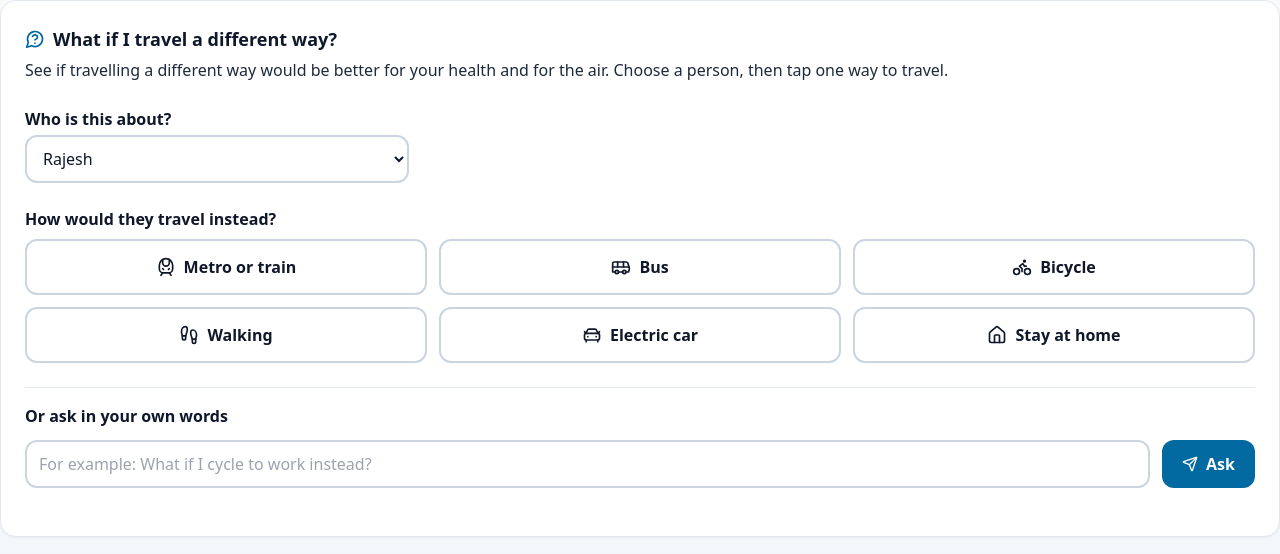
Test case: WhatIfPanel › says so, and shows no travel buttons, for someone who does not travel
Select "Meena" in the dropdown labelled "Who is this about?": (217, 159) [25,135,409,183]
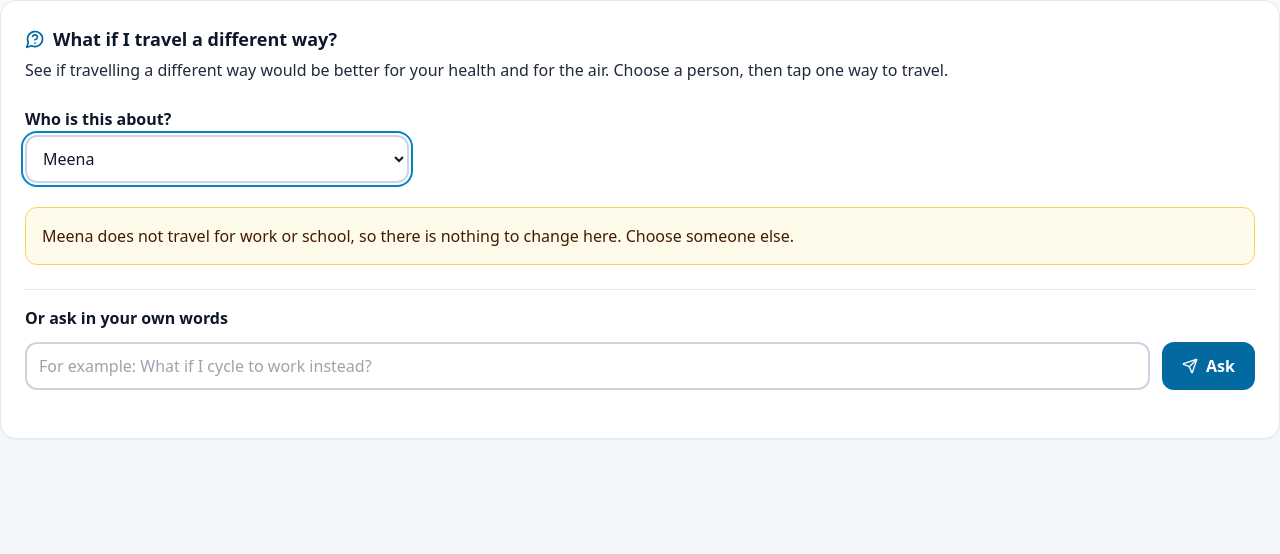
Expected: the text "Meena does not travel for work or school, so there is nothing to change here. Choose someone else." is shown, [42,225,794,247]
Expected: the text "How would they travel instead?" is gone
